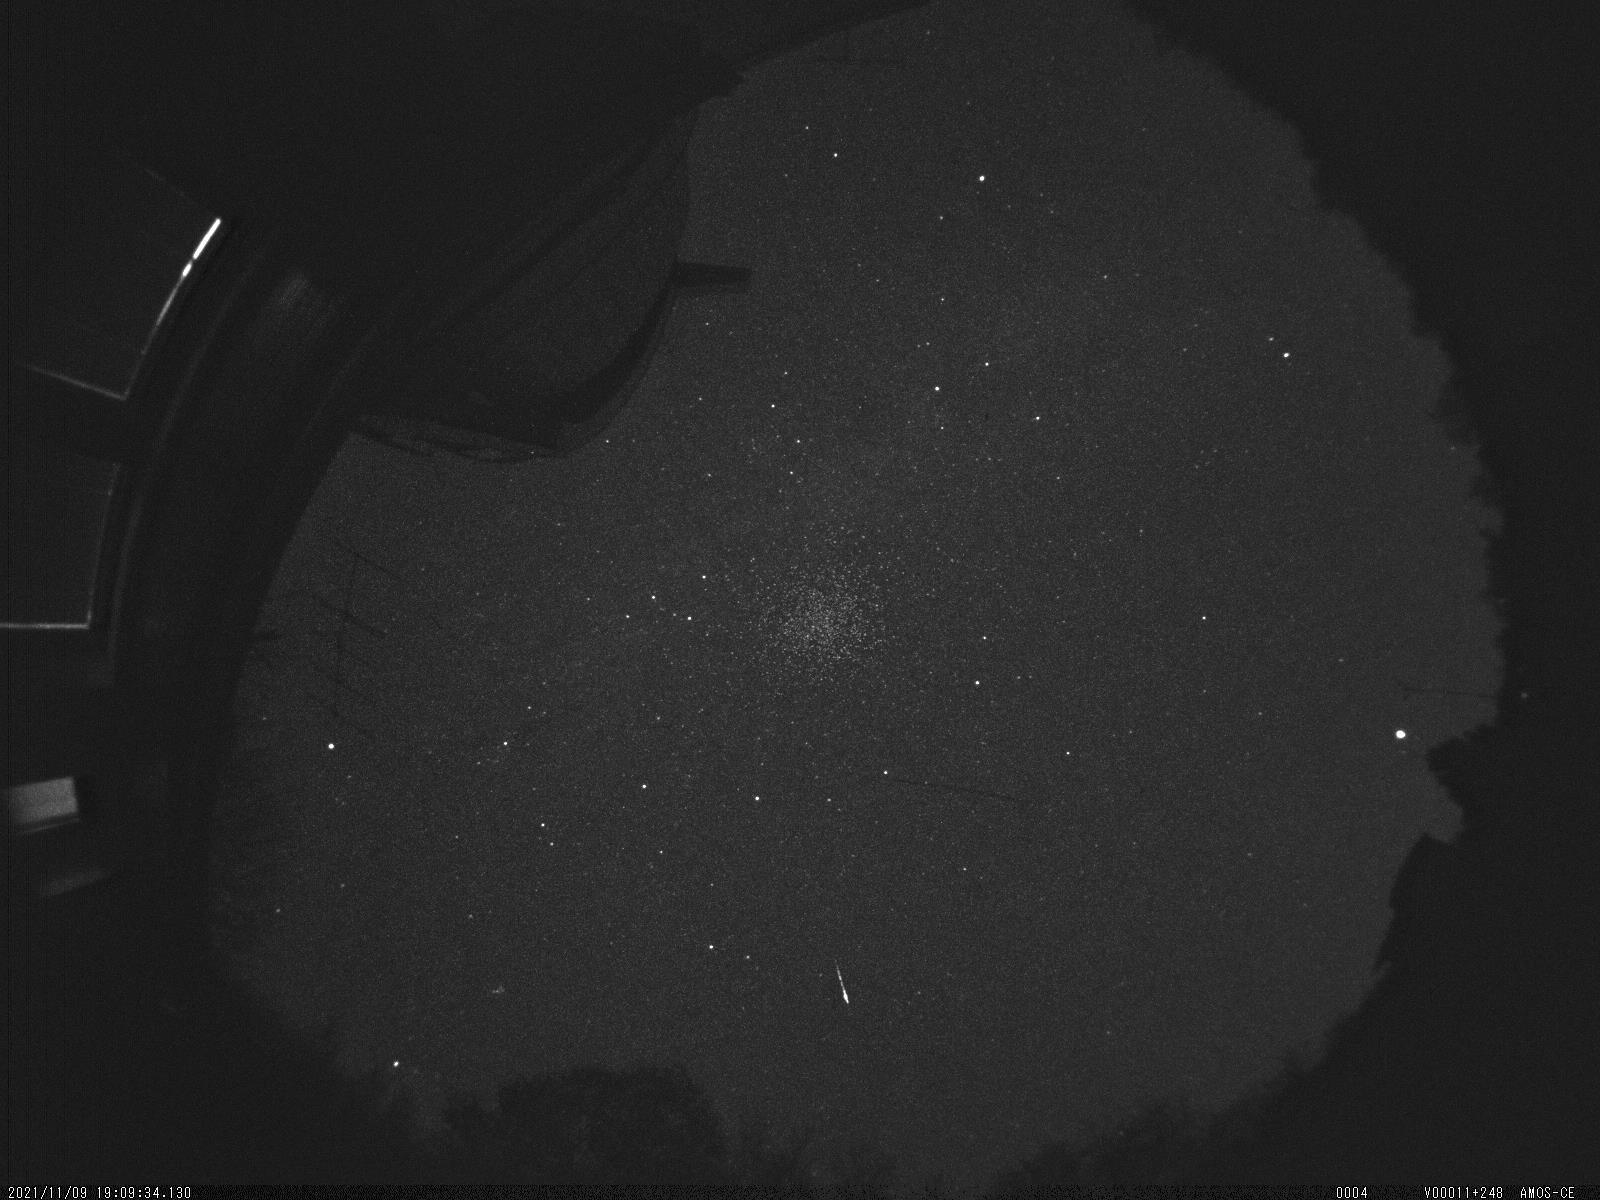Meteor: (824, 957, 861, 1017)
